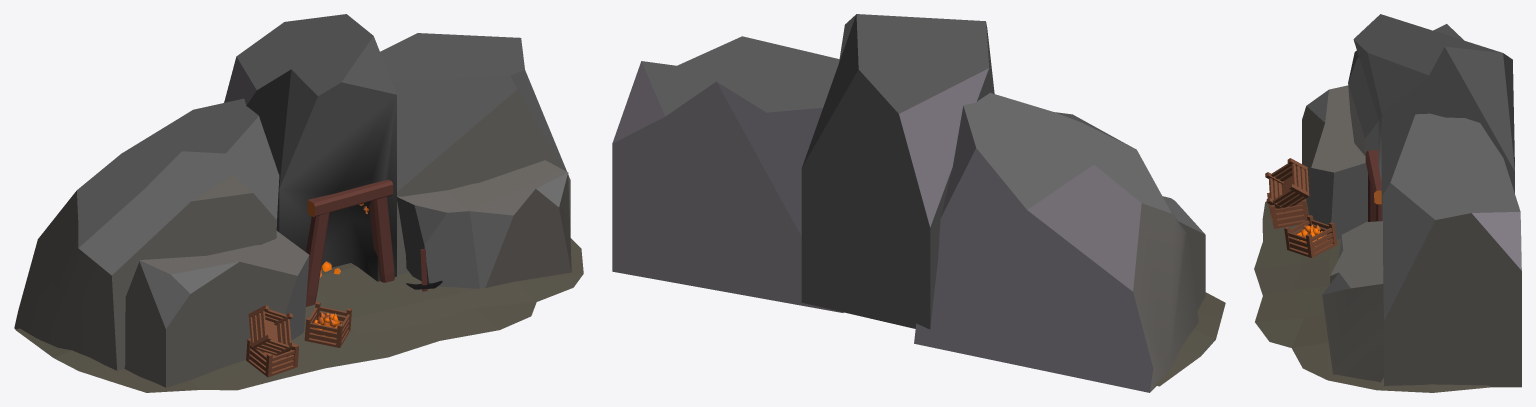
File: iron_mine_Low2.fbx
3 renders of one model, left to right at view 1: azimuth 30°, elevation 25°; view 2: azimuth 150°, elevation 25°; view 3: azimuth 270°, elevation 25°, orthographic. The views are drawn at different scales.
Visible parts, largest first — view 1: rock, Plane, entrance, box, box.001, box.002; view 2: rock, Plane; view 3: rock, Plane, box, box.001, entrance, box.002.
Part boxes in pixels (x1,y1,x2,y2): rock: (14, 14, 571, 387); Plane: (15, 238, 583, 392); entrance: (306, 179, 394, 306); box: (248, 305, 295, 355); box.001: (304, 301, 351, 347); box.002: (246, 338, 298, 377); rock: (612, 14, 1205, 392); Plane: (1154, 292, 1225, 386); rock: (1302, 14, 1521, 387); Plane: (1254, 198, 1490, 392); box: (1265, 158, 1309, 211); box.001: (1284, 215, 1337, 257); entrance: (1365, 150, 1381, 221); box.002: (1267, 192, 1308, 228).
Bounding box in the file's own units: 911 × 443 × 425.
